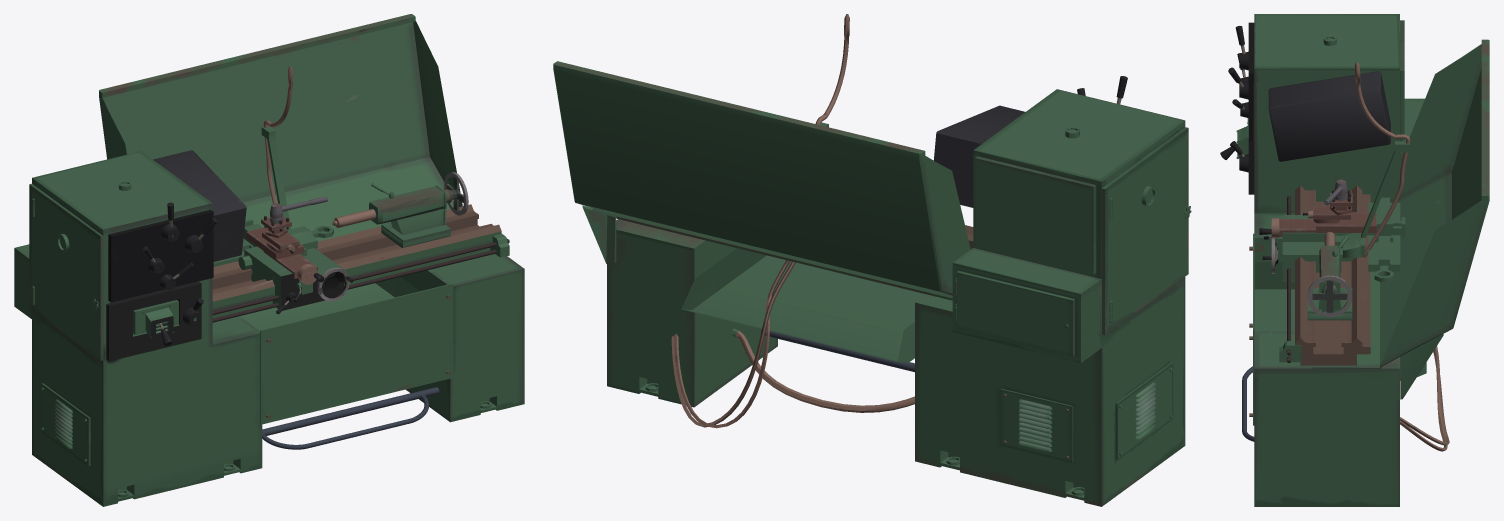
File: Lathe Machine.glb
3 views of the same model, side by side, from view 1: azimuth 30°, elevation 25°; view 2: azimuth 150°, elevation 25°; view 3: azimuth 270°, elevation 25° (orthographic). The views are drawn at different scales.
Visible parts, largest first — view 1: mesinbubut; view 2: mesinbubut; view 3: mesinbubut.
Part boxes in pixels (left/top/right/bottom): mesinbubut: left=14, top=14, right=524, bottom=506; mesinbubut: left=553, top=14, right=1191, bottom=506; mesinbubut: left=1220, top=14, right=1489, bottom=506.
Bounding box in the file's own units: 55.7 × 42.83 × 29.6.
1 material, 1 textured.
